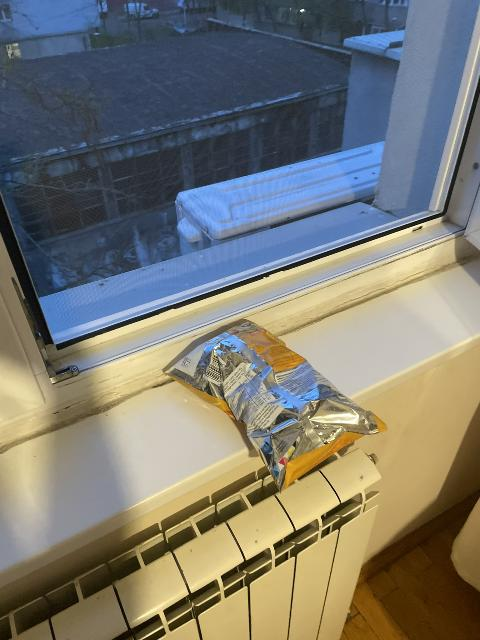Chio Hula Hoops Cheese 70g: (167, 320, 382, 490)
